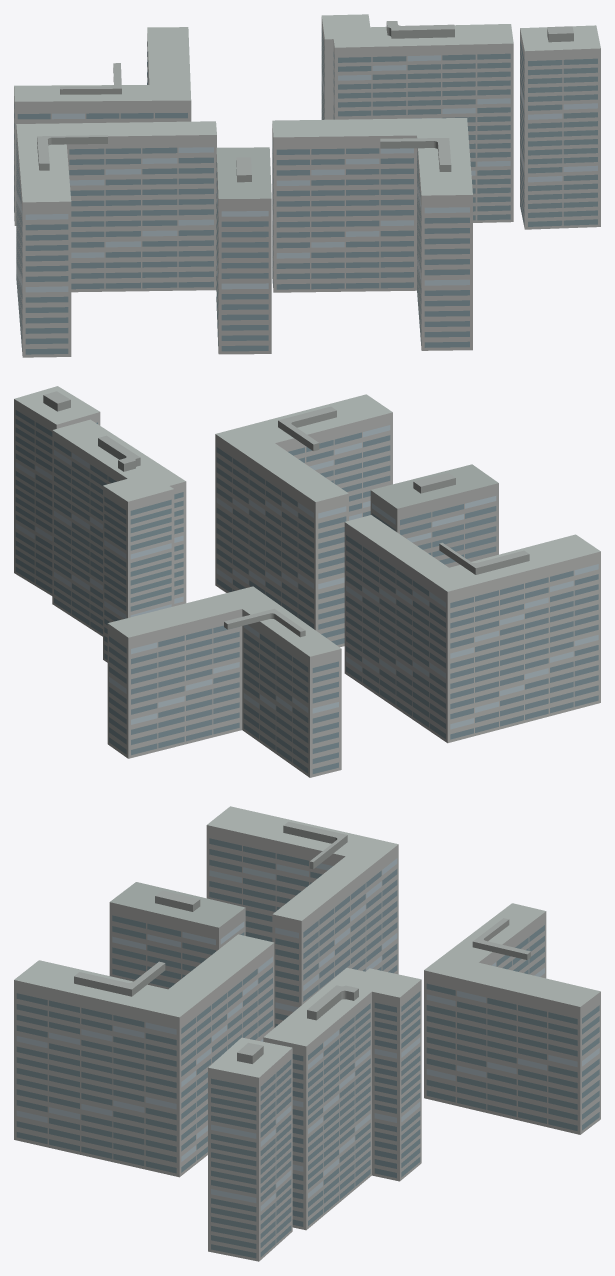
File: apt-a13804001.glb
3 renders of one model, top to bottom at view 1: azimuth 30°, elevation 25°; view 2: azimuth 150°, elevation 25°; view 3: azimuth 270°, elevation 25°, orthographic. The views are drawn at different scales.
Parts seen in each view (by area): view 1: apt-a13804001; view 2: apt-a13804001; view 3: apt-a13804001.
Part boxes in pixels (x1=…): apt-a13804001: x1=14, y1=14, x2=600, y2=357; apt-a13804001: x1=14, y1=386, x2=600, y2=777; apt-a13804001: x1=14, y1=806, x2=600, y2=1261.
Bounding box in the file's own units: 181 × 55 × 152.
